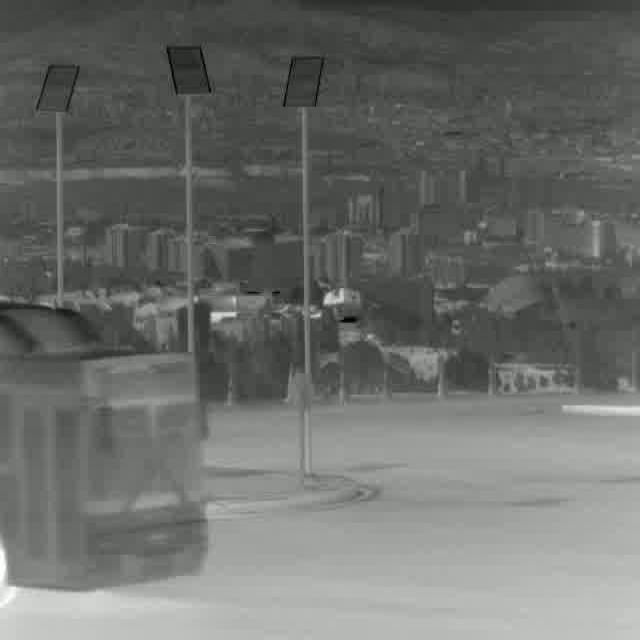Bus: (0, 301, 203, 590)
